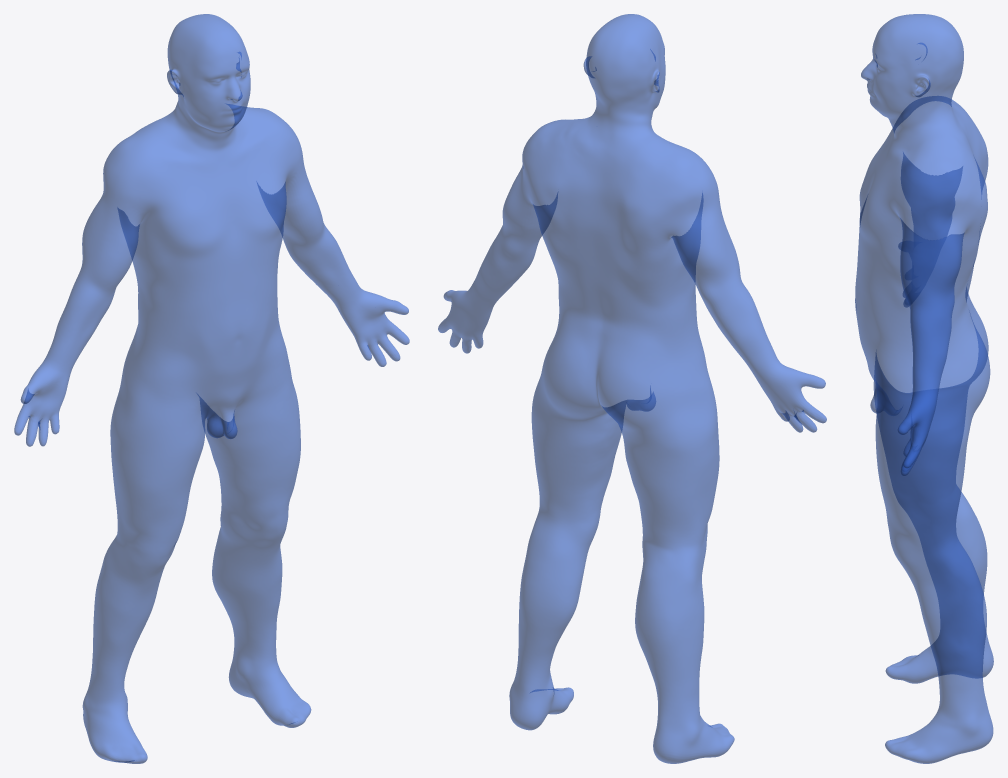
Rendered from 3d-vh-m-skin.glb.
The picture shows the model from 3 angles, left to right: view 1: azimuth 30°, elevation 25°; view 2: azimuth 150°, elevation 25°; view 3: azimuth 270°, elevation 25°; orthographic projection. The views are drawn at different scales.
Visible parts, largest first — view 1: VH_M_skin; view 2: VH_M_skin; view 3: VH_M_skin.
Part boxes in pixels (left/top/right/bottom): VH_M_skin: left=14, top=14, right=409, bottom=763; VH_M_skin: left=438, top=14, right=826, bottom=763; VH_M_skin: left=855, top=14, right=993, bottom=763.
Size of the model in its own units: 1.04 by 1.82 by 0.3256.
